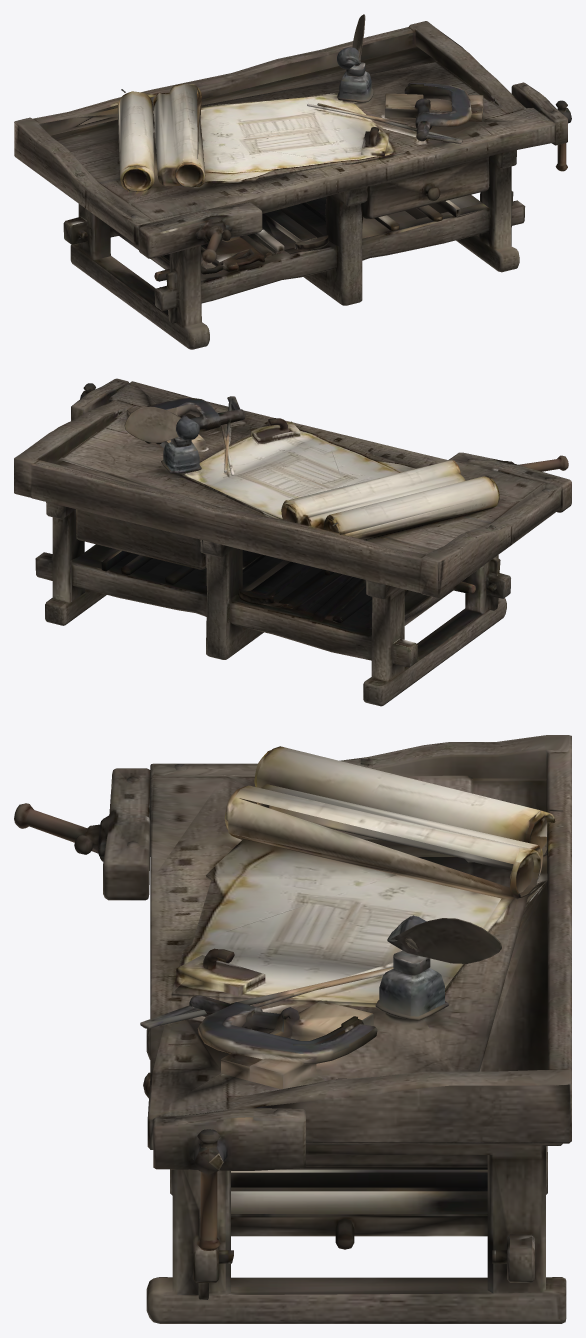
Rendered from meja-kerja.glb.
The picture shows the model from 3 angles, top to bottom: view 1: azimuth 30°, elevation 25°; view 2: azimuth 150°, elevation 25°; view 3: azimuth 270°, elevation 25°; orthographic projection. The views are drawn at different scales.
Parts seen in each view (by area): view 1: part_00000001; view 2: part_00000001; view 3: part_00000001.
Part boxes in pixels (x1=…): part_00000001: x1=14, y1=14, x2=571, y2=349; part_00000001: x1=14, y1=378, x2=571, y2=706; part_00000001: x1=14, y1=735, x2=571, y2=1323.
Size of the model in its own units: 1.01 by 0.4396 by 0.6261.
Materials: 1 (1 with a texture image).
